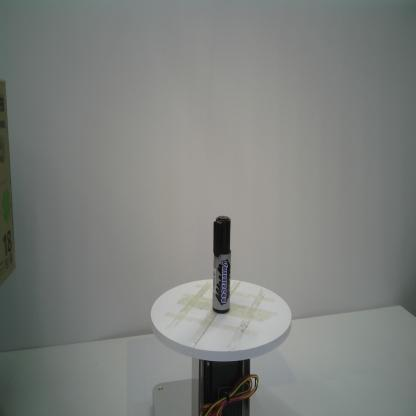Stationery: (212, 215, 231, 314)
